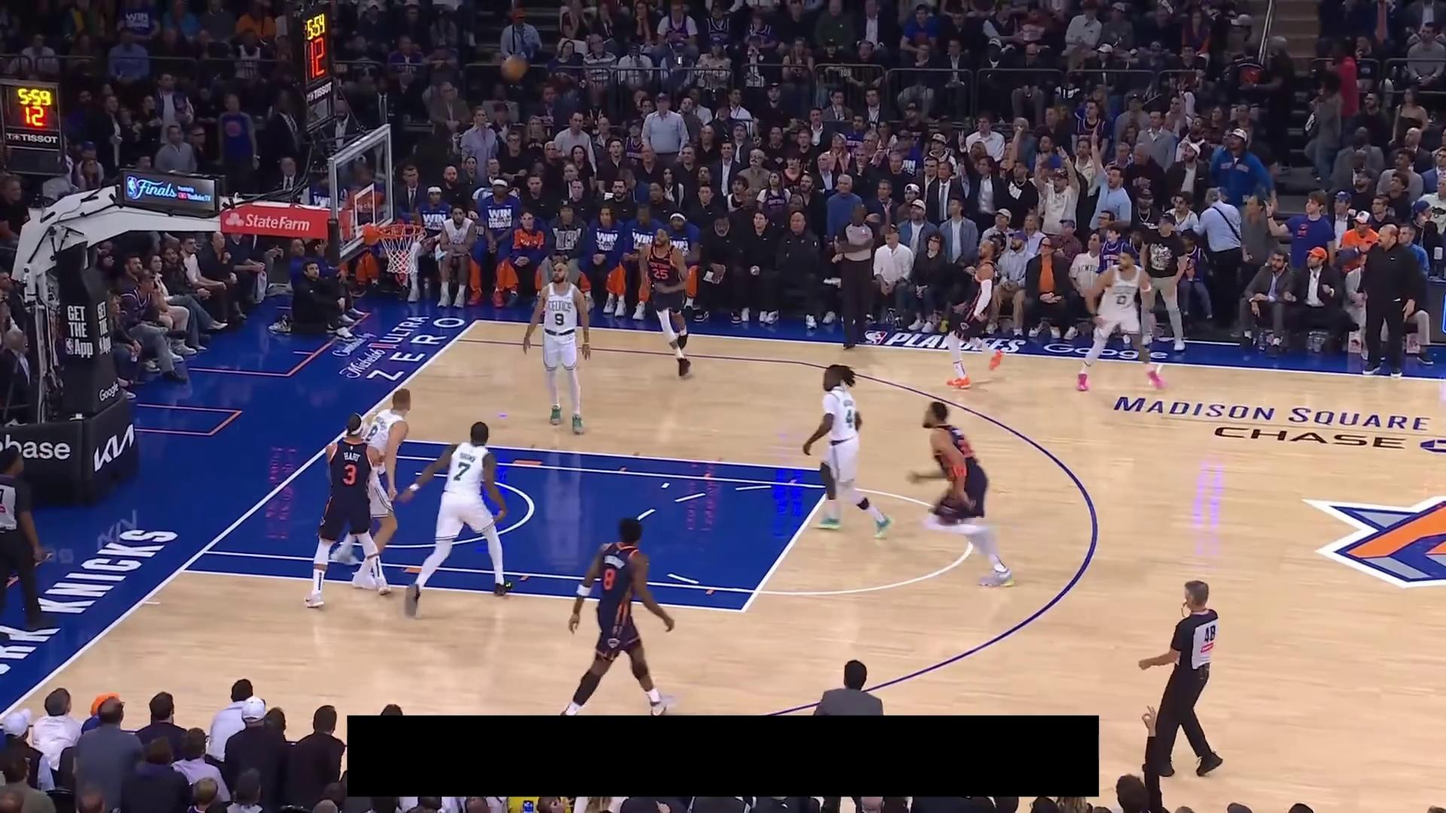ball: (501, 53, 529, 81)
number: (453, 461, 471, 482), (342, 463, 357, 486), (363, 423, 380, 443), (603, 568, 616, 591), (652, 267, 669, 281), (845, 408, 855, 428), (554, 311, 566, 327), (1115, 294, 1128, 307)
player: (560, 514, 679, 716), (395, 419, 513, 620), (905, 399, 1017, 590), (303, 413, 392, 611), (330, 385, 412, 591), (802, 361, 895, 541), (1075, 246, 1167, 393), (522, 263, 593, 435), (943, 237, 1005, 390), (638, 225, 697, 379)
referee: (1138, 579, 1223, 778), (0, 446, 60, 637), (831, 202, 888, 351)
rim: (377, 223, 426, 239)
